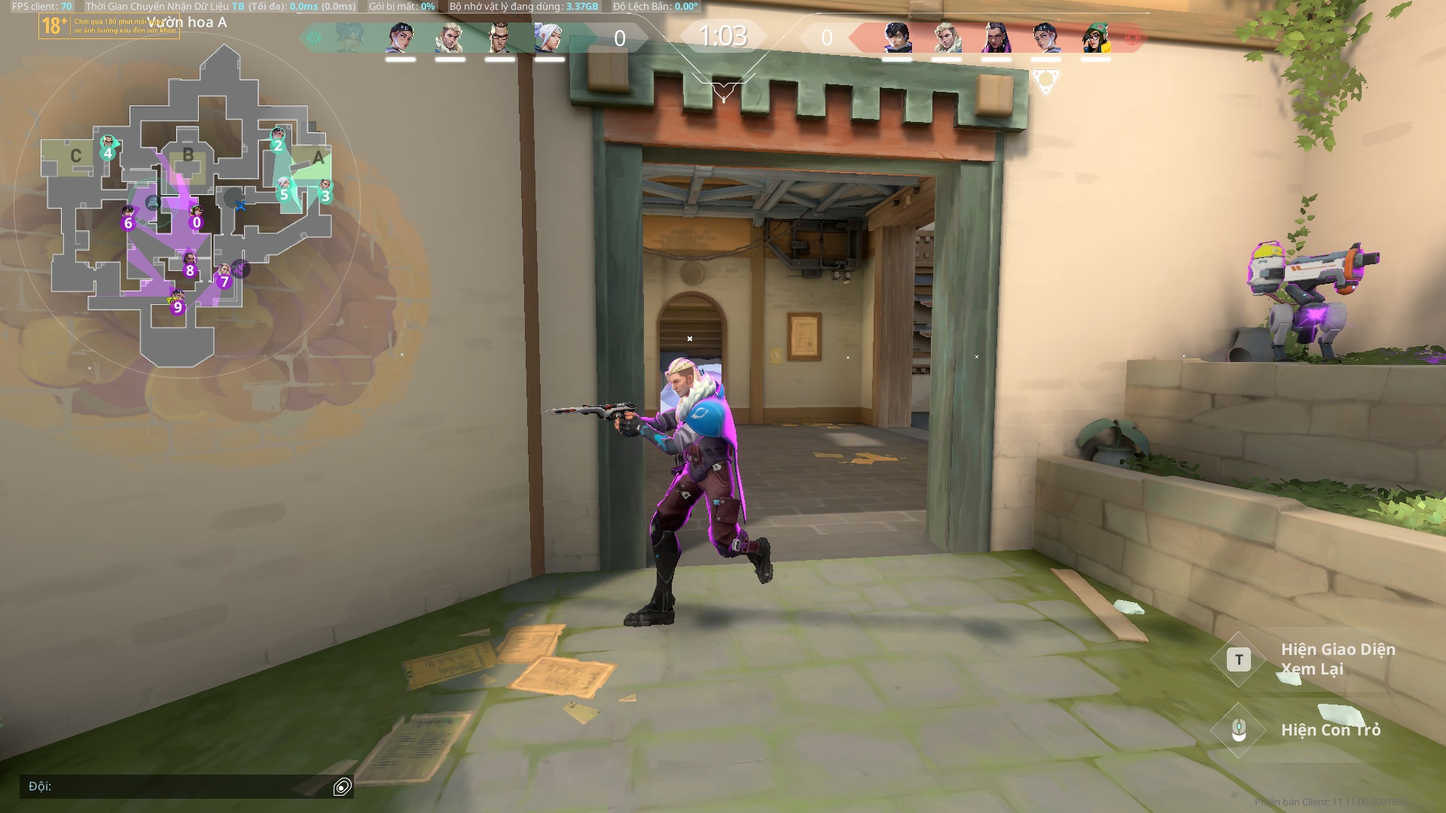body: (670, 388, 736, 461)
head: (664, 359, 699, 392)
